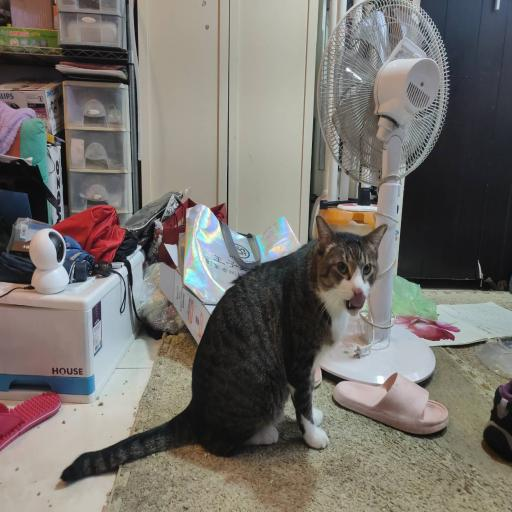cat: (196, 234, 373, 447)
